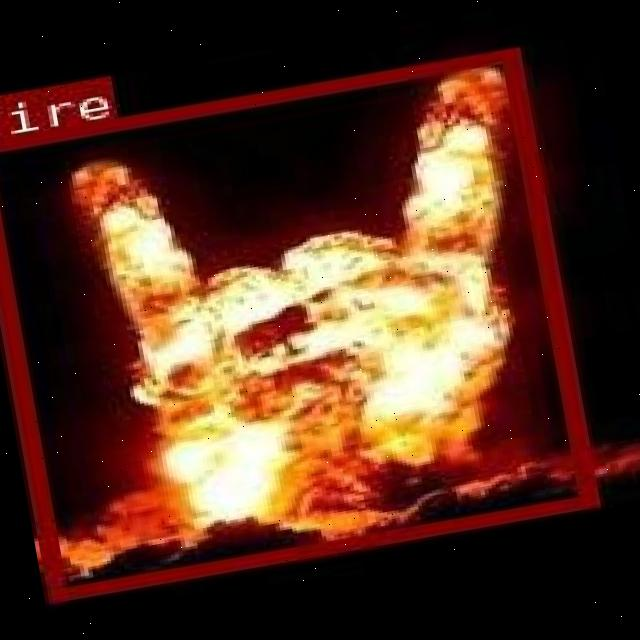fire: (0, 45, 594, 600)
